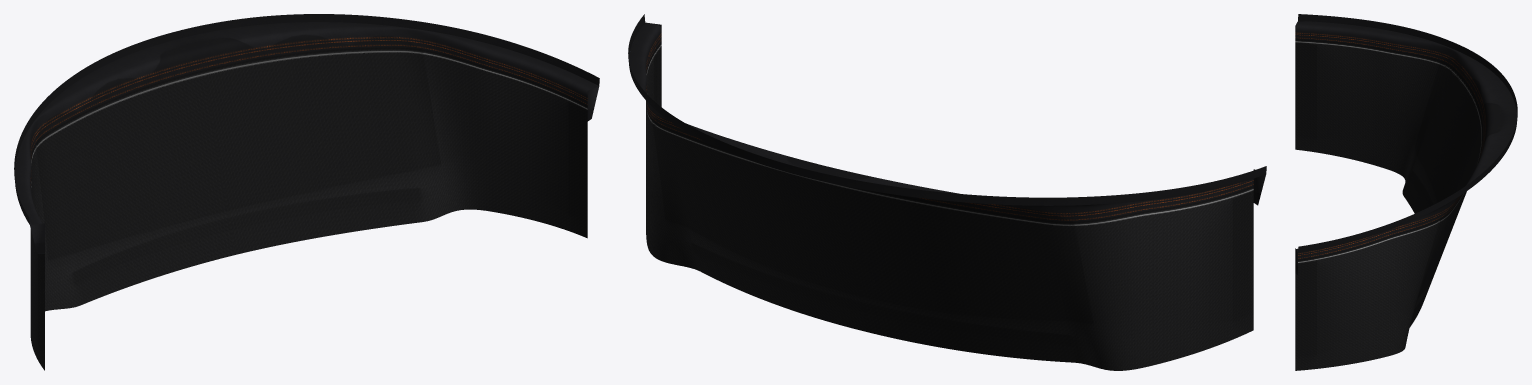
File: dash_hd.glb
The picture shows the model from 3 angles, left to right: view 1: azimuth 30°, elevation 25°; view 2: azimuth 150°, elevation 25°; view 3: azimuth 270°, elevation 25°; orthographic projection. The views are drawn at different scales.
Parts seen in each view (by area): view 1: Dash, DashSeal; view 2: Dash, DashSeal; view 3: Dash, DashSeal.
Boxes of the visible parts, bbox=[...] form: Dash: bbox=[15, 22, 599, 370]; DashSeal: bbox=[14, 14, 599, 224]; Dash: bbox=[629, 22, 1266, 370]; DashSeal: bbox=[628, 14, 1266, 205]; Dash: bbox=[1295, 20, 1517, 370]; DashSeal: bbox=[1298, 14, 1517, 252].
Bounding box in the file's own units: 1.38 × 0.4329 × 0.5595.
Materials: 1 (1 with a texture image).
